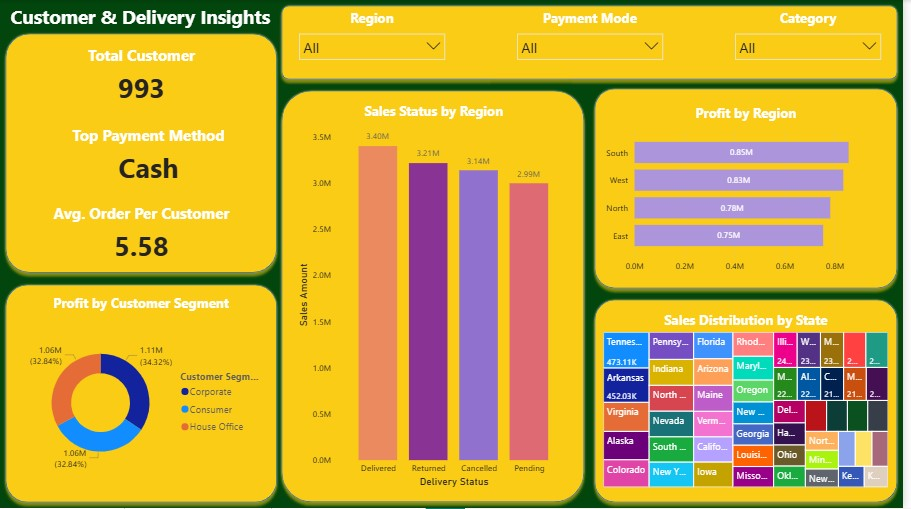

The page's visual inventory and layout, read from the dashboard file:
{"tool":"powerbi","page":{"name":"Customer & Delivery","canvas":[1280,720],"ordinal":2},"visuals":[{"type":"textbox","box":[9.9,0,381.3,52.4],"z":0},{"type":"shape","box":[391.2,0,888.7,120.5],"z":1000},{"type":"slicer","title":"Region","fields":{"Values":["Store_Management_System.Region"]},"box":[413.9,12.8,226.8,96.4],"z":1001},{"type":"slicer","title":"Payment Mode","fields":{"Values":["Store_Management_System.Payment Mode"]},"box":[722.8,12.8,226.8,96.4],"z":1002},{"type":"slicer","title":"Category","fields":{"Values":["Store_Management_System.Category"]},"box":[1031.8,12.8,226.8,96.4],"z":1003},{"type":"shape","box":[0,40,400.4,354.7],"z":1004},{"type":"card","title":"Total Customer","fields":{"Values":["Count(Store_Management_System.Customer Name)"]},"box":[58.1,63.8,284.9,90.7],"z":1005},{"type":"card","title":"Top Payment Method","fields":{"Values":["Min(Store_Management_System.Payment Mode)"]},"box":[68,177.2,284.9,90.7],"z":1006},{"type":"card","title":"Avg. Order Per Customer","fields":{"Values":["Avg(Store_Management_System.Quantity)"]},"box":[58.1,287.7,284.9,90.7],"z":1007},{"type":"shape","box":[0,394.7,400.4,324.6],"z":1008},{"type":"shape","box":[835.2,117.3,444.8,298.9],"z":1009},{"type":"shape","box":[835.2,416.2,444.8,303.2],"z":1010},{"type":"shape","box":[391.9,120.1,444.8,599.2],"z":1011},{"type":"clusteredColumnChart","title":"Sales Status by Region","fields":{"Category":["Store_Management_System.Delivery Status"],"Y":["Sum(Store_Management_System.Sales Amount)"]},"box":[416.2,144.4,396.2,550.6],"z":1012},{"type":"barChart","title":"Profit by Region","fields":{"Category":["Store_Management_System.Region"],"Y":["Sum(Store_Management_System.Profit)"]},"box":[850.9,147.3,413.3,247.4],"z":1013},{"type":"treemap","title":"Sales Distribution by State","fields":{"Group":["Store_Management_System.State"],"Values":["Sum(Store_Management_System.Sales Amount)"]},"box":[850.9,440.5,413.3,254.6],"z":1014},{"type":"donutChart","title":"Profit by Customer Segment","fields":{"Category":["Store_Management_System.Customer Segment"],"Y":["Sum(Store_Management_System.Profit)"]},"box":[24.3,416.2,351.8,283.2],"z":1015}]}

Visuals, with their boxes in screenshot pixels (x1, y1, x2, y2), scaled from the page's 1280x720 canvas onto the 911x509 screenshot:
textbox: (7, 0, 278, 37)
shape: (278, 0, 910, 85)
"Region" slicer: (295, 9, 456, 77)
"Payment Mode" slicer: (514, 9, 676, 77)
"Category" slicer: (734, 9, 896, 77)
shape: (0, 28, 285, 279)
"Total Customer" card: (41, 45, 244, 109)
"Top Payment Method" card: (48, 125, 251, 189)
"Avg. Order Per Customer" card: (41, 203, 244, 268)
shape: (0, 279, 285, 508)
shape: (594, 83, 910, 294)
shape: (594, 294, 910, 508)
shape: (279, 85, 595, 508)
"Sales Status by Region" clusteredColumnChart: (296, 102, 578, 491)
"Profit by Region" barChart: (606, 104, 900, 279)
"Sales Distribution by State" treemap: (606, 311, 900, 491)
"Profit by Customer Segment" donutChart: (17, 294, 268, 494)
